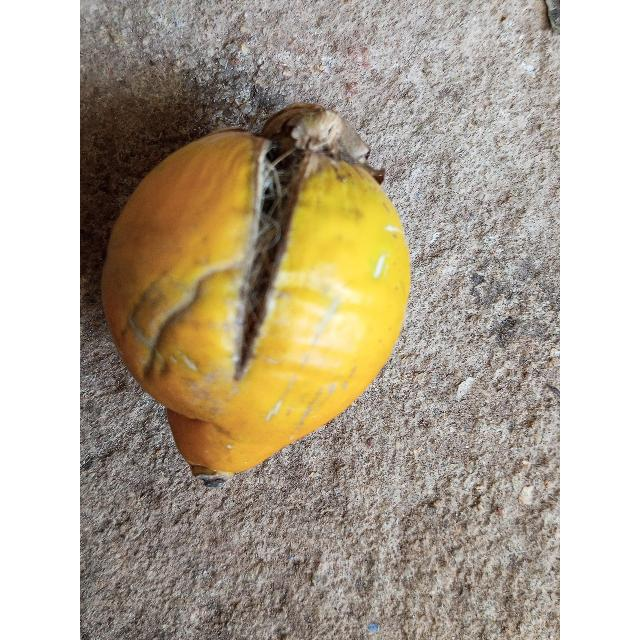damaged: (102, 103, 411, 485)
